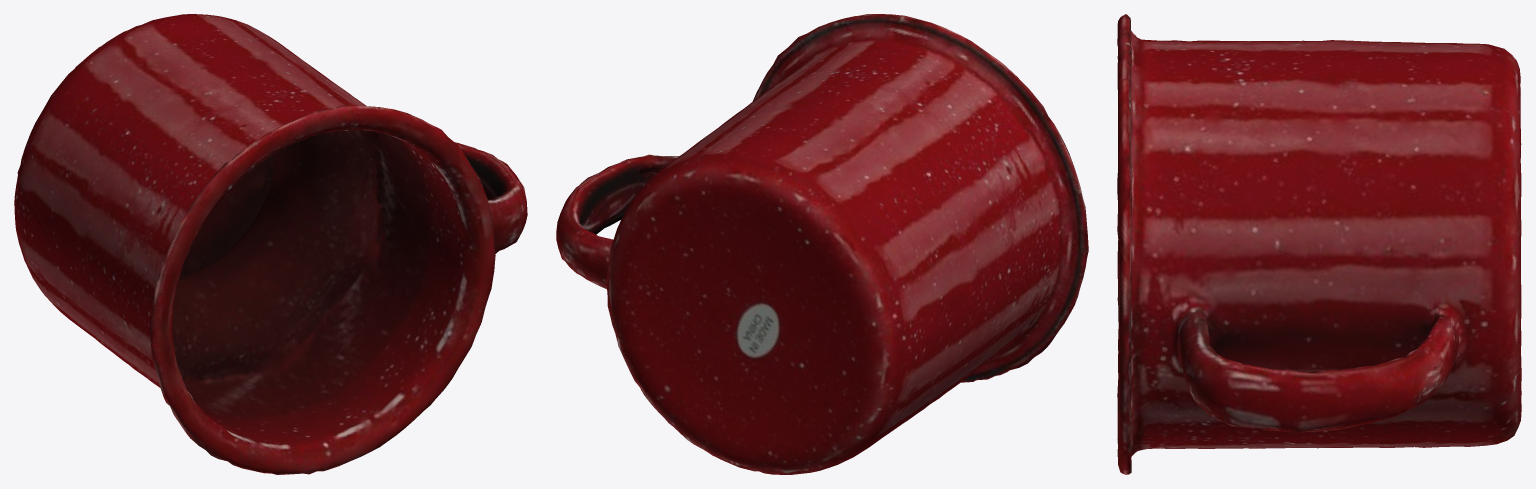
Rendered from mug.obj.
3 views of the same model, side by side, from view 1: azimuth 30°, elevation 25°; view 2: azimuth 150°, elevation 25°; view 3: azimuth 270°, elevation 25° (orthographic). The views are drawn at different scales.
Size of the model in its own units: 0.117 by 0.0931 by 0.0813.
1 material, 1 textured.
